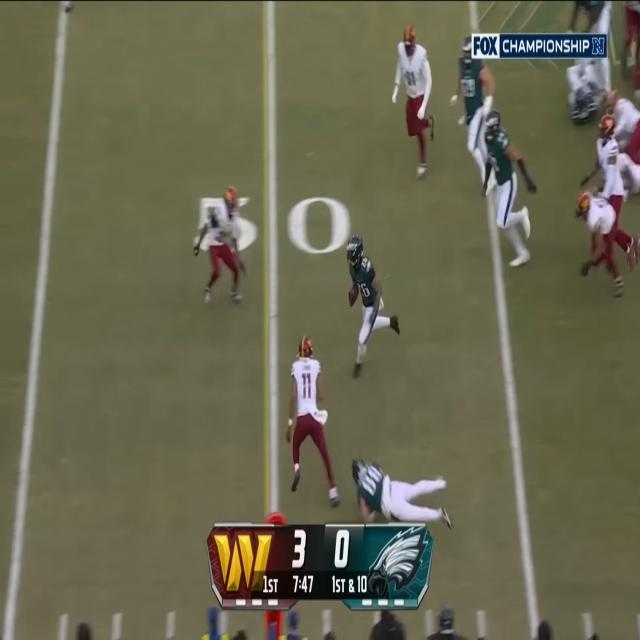Ball: (347, 285, 361, 306)
